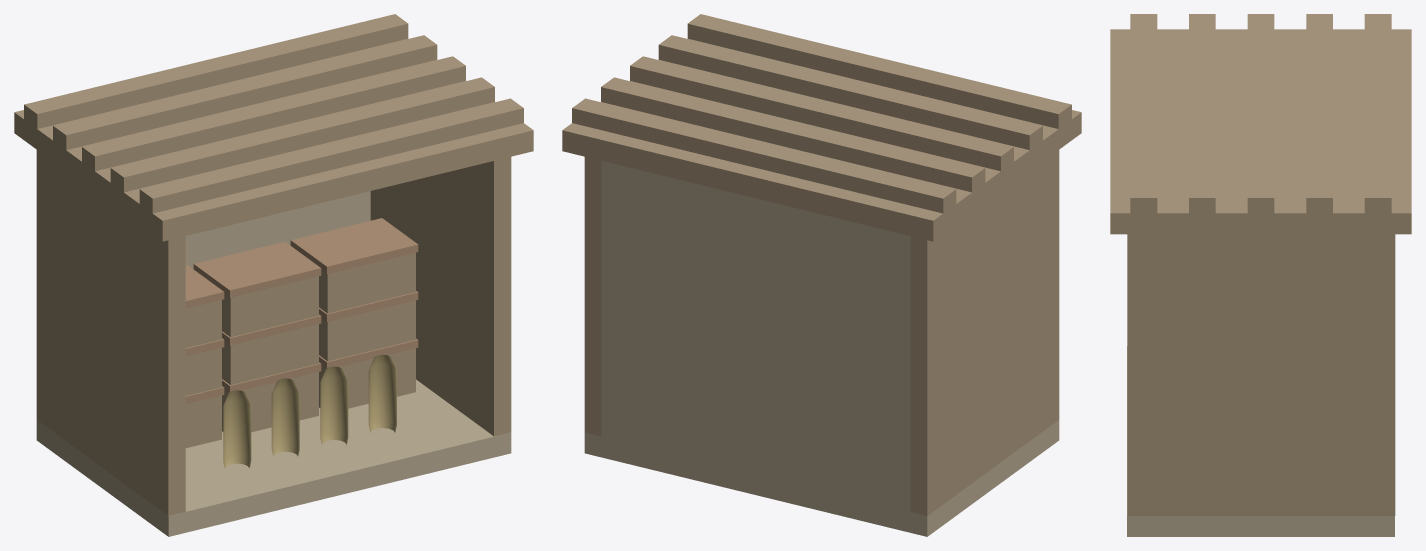
The model's file is trench-line-1917-ammunition-bay-1900ff10__24075.glb.
3 views of the same model, side by side, from view 1: azimuth 30°, elevation 25°; view 2: azimuth 150°, elevation 25°; view 3: azimuth 270°, elevation 25° (orthographic).
Parts seen in each view (by area): view 1: ammunition-bay; view 2: ammunition-bay; view 3: ammunition-bay.
Boxes of the visible parts, <box> form: ammunition-bay: <box>14,14,533,536</box>; ammunition-bay: <box>562,14,1081,536</box>; ammunition-bay: <box>1110,14,1411,536</box>.
Bounding box in the file's own units: 2.6 × 2.28 × 1.8.
